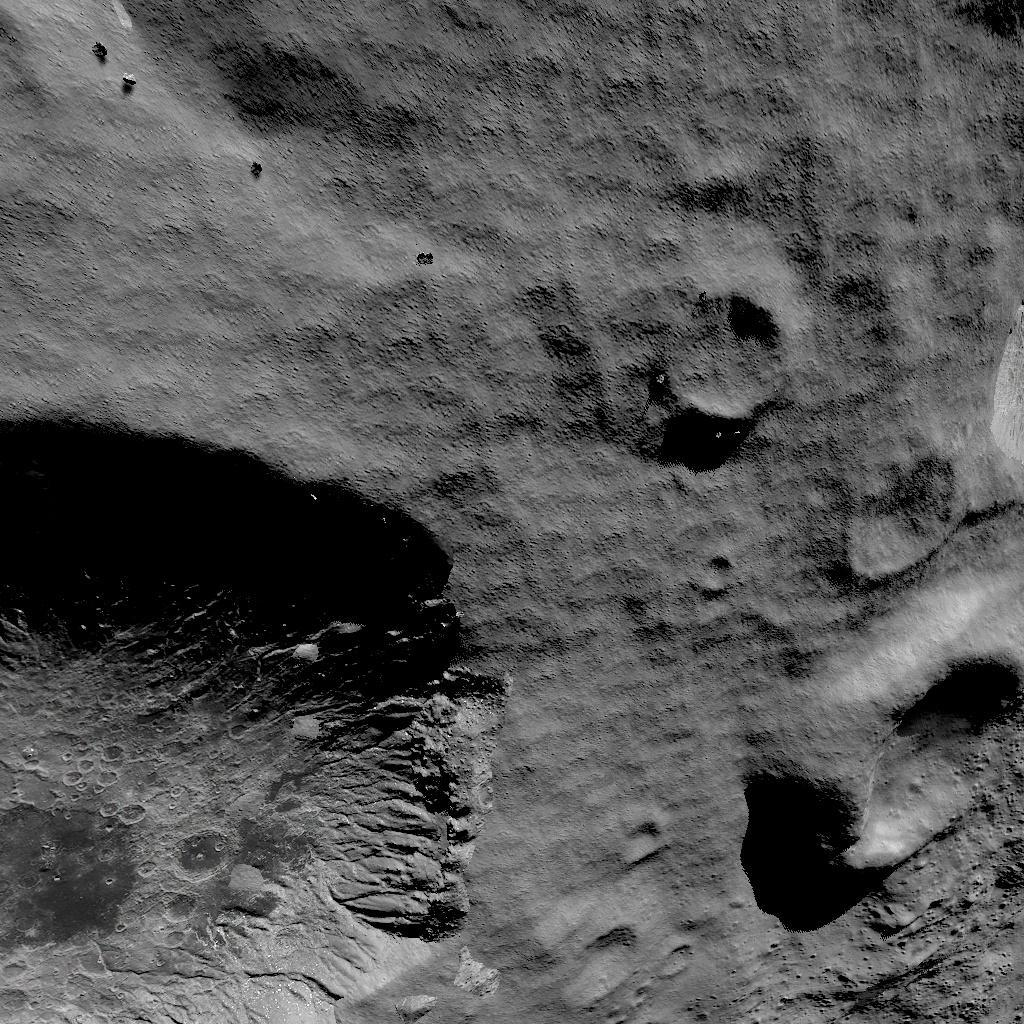Crater: (0, 404, 503, 1024), (743, 622, 1024, 936), (831, 442, 978, 594), (653, 290, 791, 449), (609, 820, 671, 878), (691, 554, 746, 604)
Plan surface: (279, 0, 949, 235), (0, 104, 247, 384)
